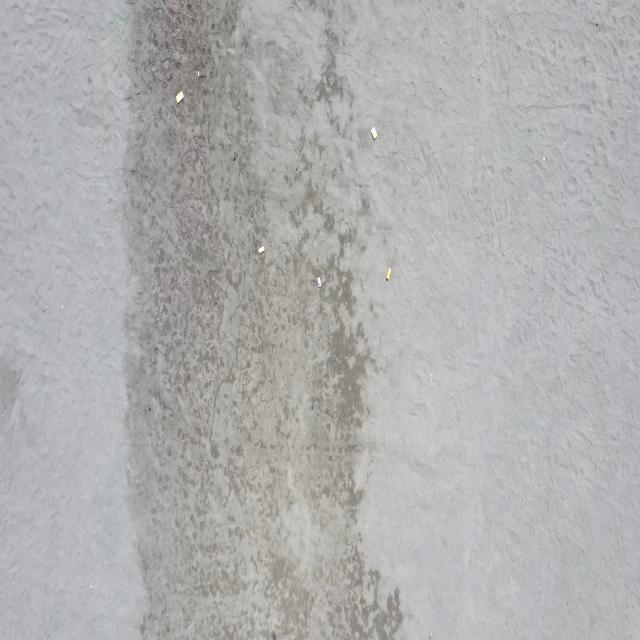Garbage: (175, 91, 183, 103), (369, 127, 376, 140), (196, 68, 205, 76), (386, 267, 391, 280), (316, 276, 320, 287), (256, 246, 263, 252), (196, 70, 199, 75)
